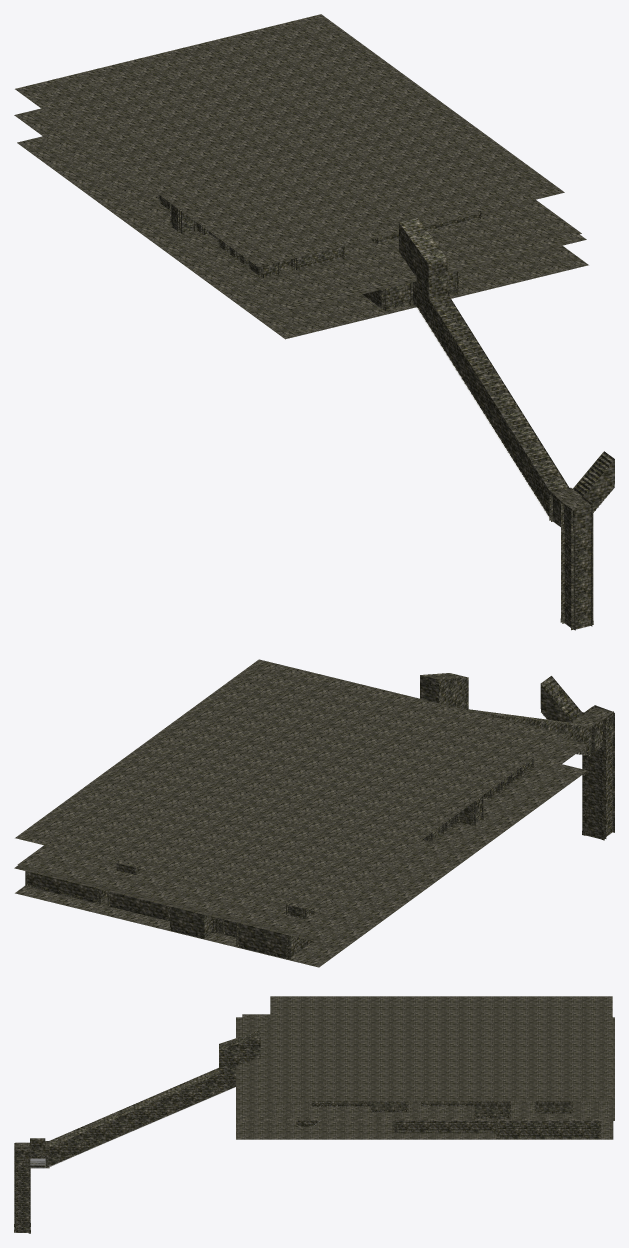
The model's file is 002_zennkiseisaku_meiro2_01_27.fbx.
The picture shows the model from 3 angles, top to bottom: view 1: azimuth 30°, elevation 25°; view 2: azimuth 150°, elevation 25°; view 3: azimuth 270°, elevation 25°; orthographic projection. The views are drawn at different scales.
Parts seen in each view (by area): view 1: tenjou_2kai, yuka_2kai, kabe_1kai, yuka_1kai, tenjou_kaidann, hasira, tenjou_1kai; view 2: tenjou_2kai, yuka_2kai, kabe_1kai, yuka_1kai, hasira, tenjou_1kai, tenjou_kaidann2, tenjou_tika1kai; view 3: tenjou_2kai, kabe_1kai, yuka_2kai, yuka_1kai, tenjou_1kai, tenjou_kaidann, hasira, suro-pu.
Part boxes in pixels (x1,y1,x2,y2): tenjou_2kai: (15,14,564,267); yuka_2kai: (14,108,581,307); kabe_1kai: (159,195,614,629); yuka_1kai: (17,136,588,339); tenjou_kaidann: (429,293,568,492); hasira: (158,194,593,630); tenjou_1kai: (278,234,586,313); tenjou_2kai: (15,659,565,912); yuka_2kai: (17,739,586,939); kabe_1kai: (27,673,613,959); yuka_1kai: (15,764,587,967); hasira: (25,711,614,959); tenjou_1kai: (14,738,587,942); tenjou_kaidann2: (542,678,581,721); tenjou_tika1kai: (572,706,613,726); tenjou_2kai: (270,996,612,1101); kabe_1kai: (15,1030,599,1232); yuka_2kai: (242,1014,612,1118); yuka_1kai: (236,1120,613,1139); tenjou_1kai: (236,1017,614,1120); tenjou_kaidann: (49,1069,218,1146); hasira: (14,1101,600,1233); suro-pu: (30,1087,319,1167).
Size of the model in its own units: 973 by 847 by 2346.
